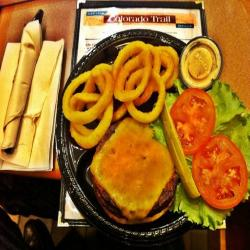burger: (88, 123, 184, 224)
salad: (201, 80, 250, 161)
